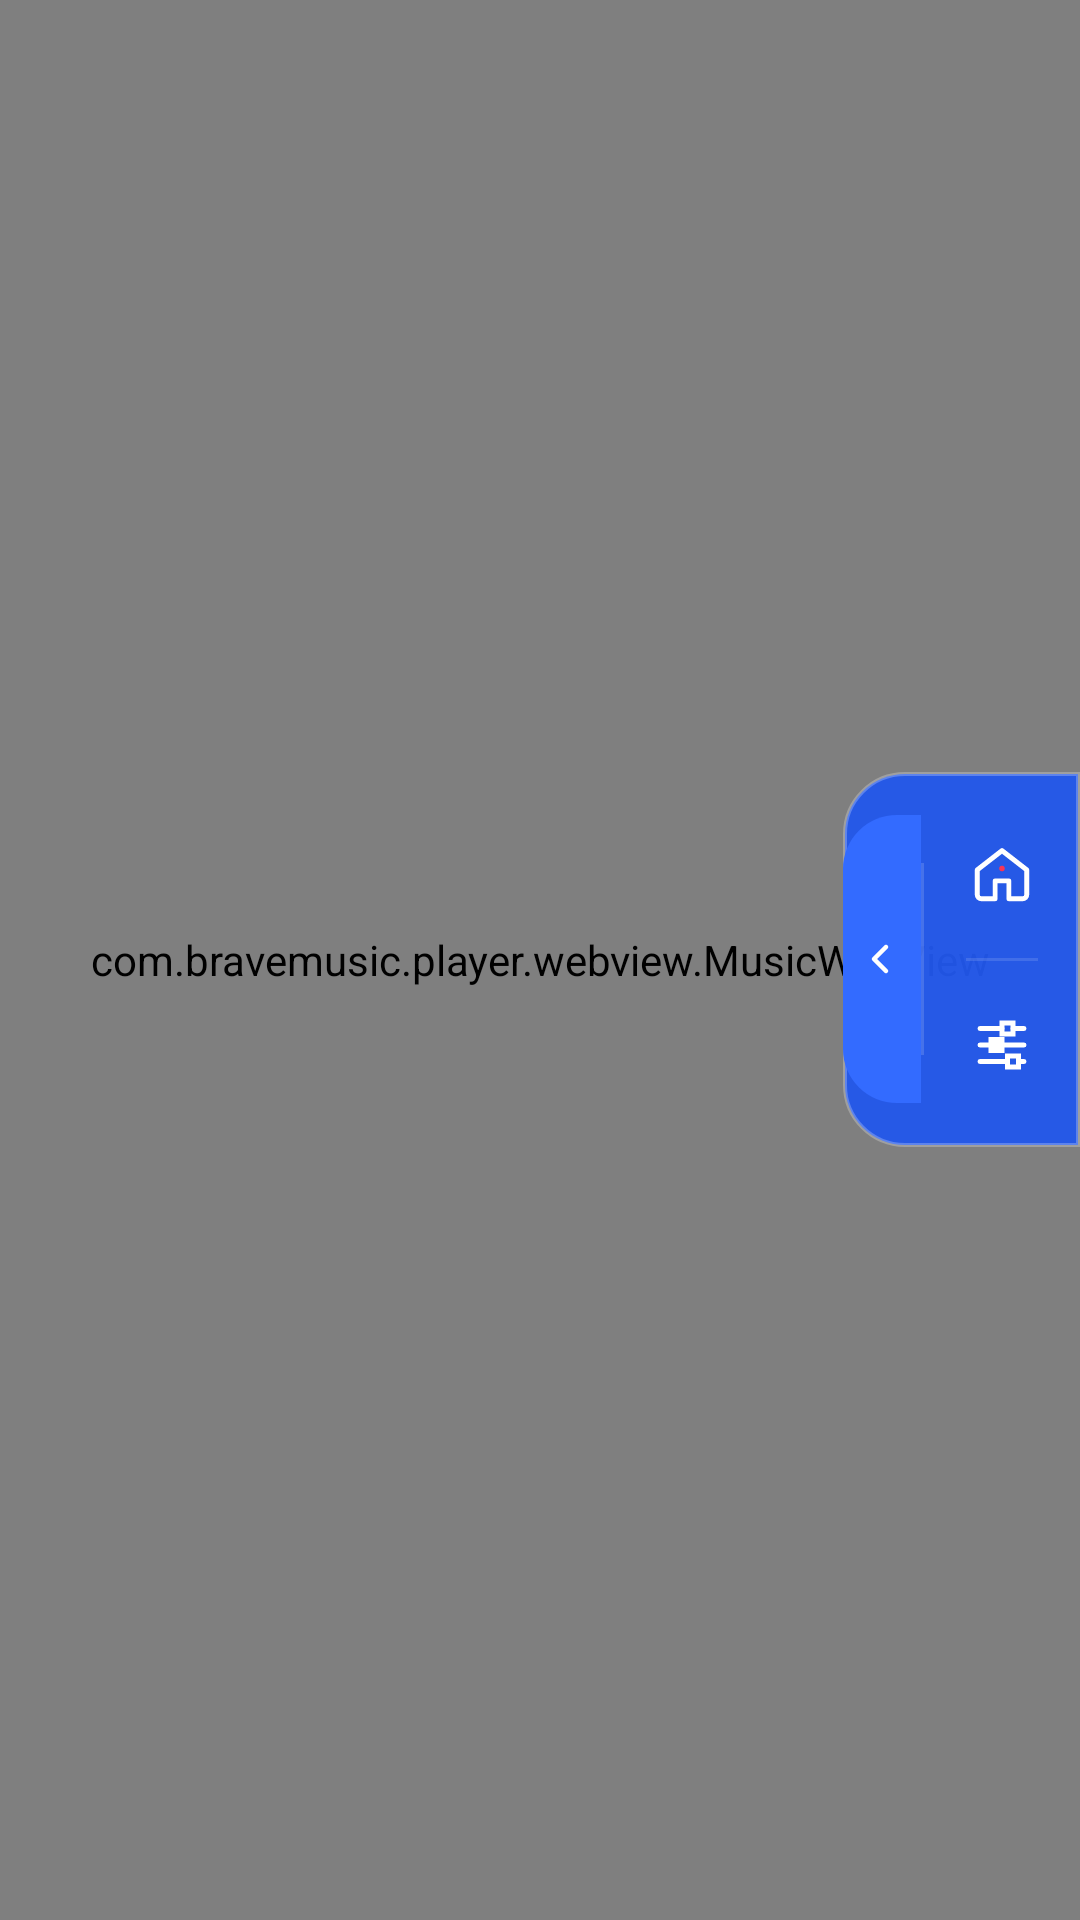

Icon bounding boxes for this 1080 × 1920 phone screenshot, format [left=x1, top=y1, right=x2, bottom=y2]:
Home: [left=974, top=848, right=1030, bottom=902]
Settings: [left=977, top=1020, right=1027, bottom=1070]
Toggle Drawer: [left=871, top=944, right=889, bottom=974]
